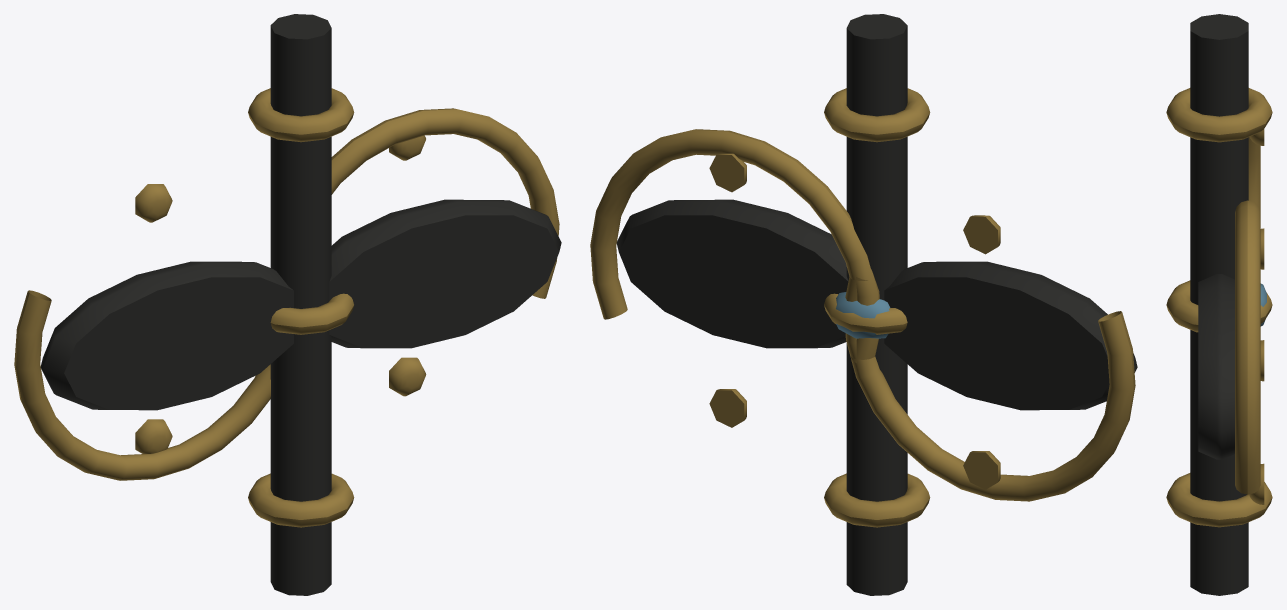
Rendered from black_hinge.obj.
The picture shows the model from 3 angles, left to right: view 1: azimuth 30°, elevation 25°; view 2: azimuth 150°, elevation 25°; view 3: azimuth 270°, elevation 25°; orthographic projection.
Visible parts, largest first — view 1: black_hinge; view 2: black_hinge; view 3: black_hinge.
Boxes of the visible parts, box(x1,y1,x2,y2) form: black_hinge: box(14, 14, 561, 595); black_hinge: box(590, 14, 1137, 595); black_hinge: box(1166, 14, 1272, 595).
Size of the model in its own units: 2.65 by 2.6 by 0.45.
